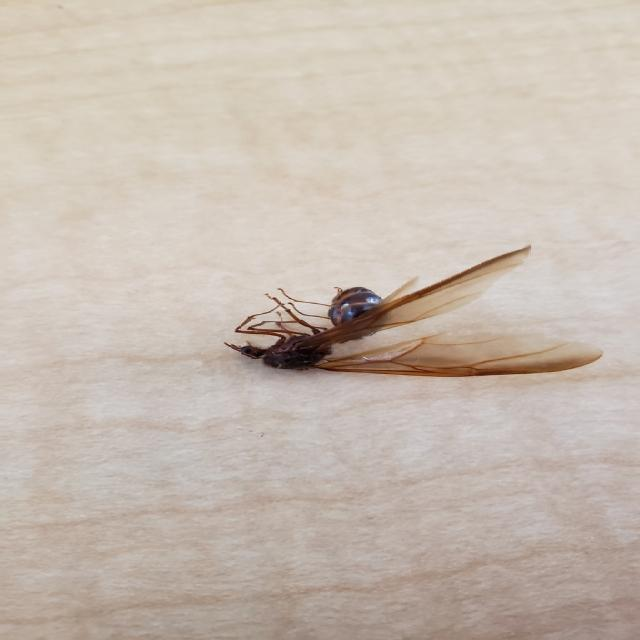Dead-Male-Alate: (223, 245, 604, 378)
